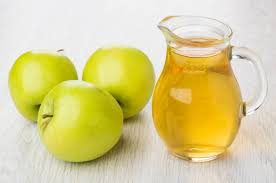apple: (36, 81, 123, 160), (84, 49, 155, 119), (9, 52, 77, 122)
